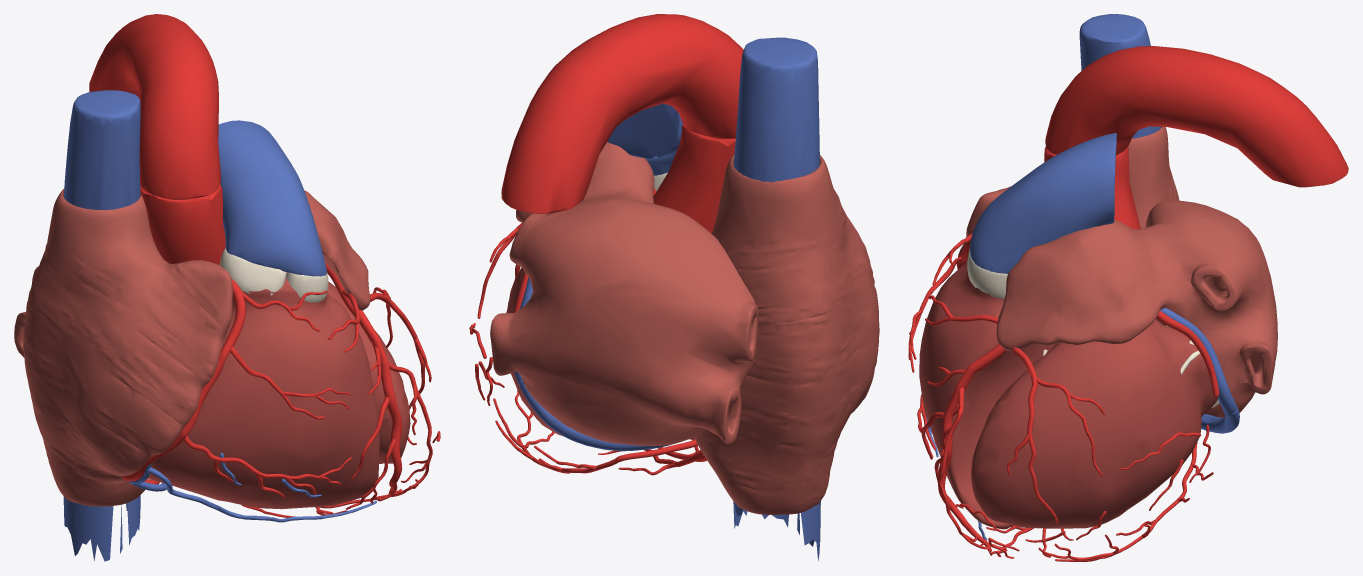
The picture shows the model from 3 angles, left to right: view 1: azimuth 30°, elevation 25°; view 2: azimuth 150°, elevation 25°; view 3: azimuth 270°, elevation 25°; orthographic projection. The views are drawn at different scales.
Parts seen in each view (by area): view 1: rightAtrium, rightVentricle, aorta, pulmonaryTrunk, coronaryArteries, superiorVenaCava, leftAtrium, inferiorVenaCava, pulmonaryValve, leftVentricle, cardiacVeins; view 2: leftAtrium, rightAtrium, aorta, superiorVenaCava, coronaryArteries, pulmonaryTrunk, cardiacVeins, inferiorVenaCava, leftVentricle; view 3: leftVentricle, leftAtrium, aorta, rightVentricle, pulmonaryTrunk, coronaryArteries, rightAtrium, superiorVenaCava, cardiacVeins, pulmonaryValve.
Boxes of the visible parts, x1,y1,x2,y2 form: rightAtrium: (23, 188, 232, 506); rightVentricle: (148, 277, 379, 509); aorta: (89, 14, 225, 265); pulmonaryTrunk: (218, 120, 326, 276); coronaryArteries: (121, 262, 440, 517); superiorVenaCava: (63, 90, 140, 209); leftAtrium: (14, 190, 370, 357); inferiorVenaCava: (63, 495, 140, 561); pulmonaryValve: (220, 248, 328, 302); leftVentricle: (327, 281, 410, 463); cardiacVeins: (129, 452, 376, 522); leftAtrium: (490, 142, 758, 445); rightAtrium: (694, 154, 879, 514); aorta: (501, 14, 743, 233); superiorVenaCava: (733, 37, 819, 182); coronaryArteries: (469, 188, 706, 475); pulmonaryTrunk: (607, 103, 683, 175); cardiacVeins: (514, 277, 670, 451); inferiorVenaCava: (733, 501, 820, 560); leftVentricle: (507, 267, 563, 436); leftVentricle: (971, 319, 1217, 528); leftAtrium: (996, 200, 1277, 417); aorta: (1044, 46, 1348, 229); rightVentricle: (919, 263, 1054, 529); pulmonaryTrunk: (969, 133, 1116, 273); coronaryArteries: (908, 233, 1219, 561); rightAtrium: (956, 127, 1179, 266); superiorVenaCava: (1079, 14, 1161, 138); cardiacVeins: (924, 308, 1239, 540); pulmonaryValve: (967, 248, 1007, 298).
Bounding box in the file's own units: 0.1157 × 0.1514 × 0.1267.
